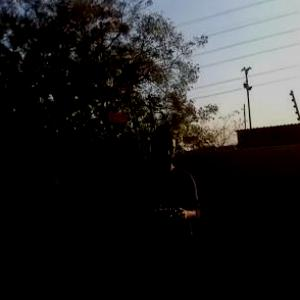follow: (132, 120, 210, 299)
